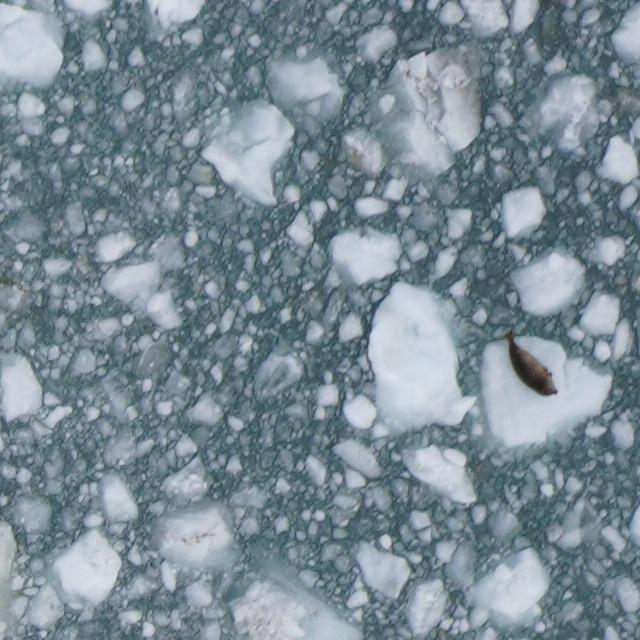seal: (500, 326, 564, 402)
